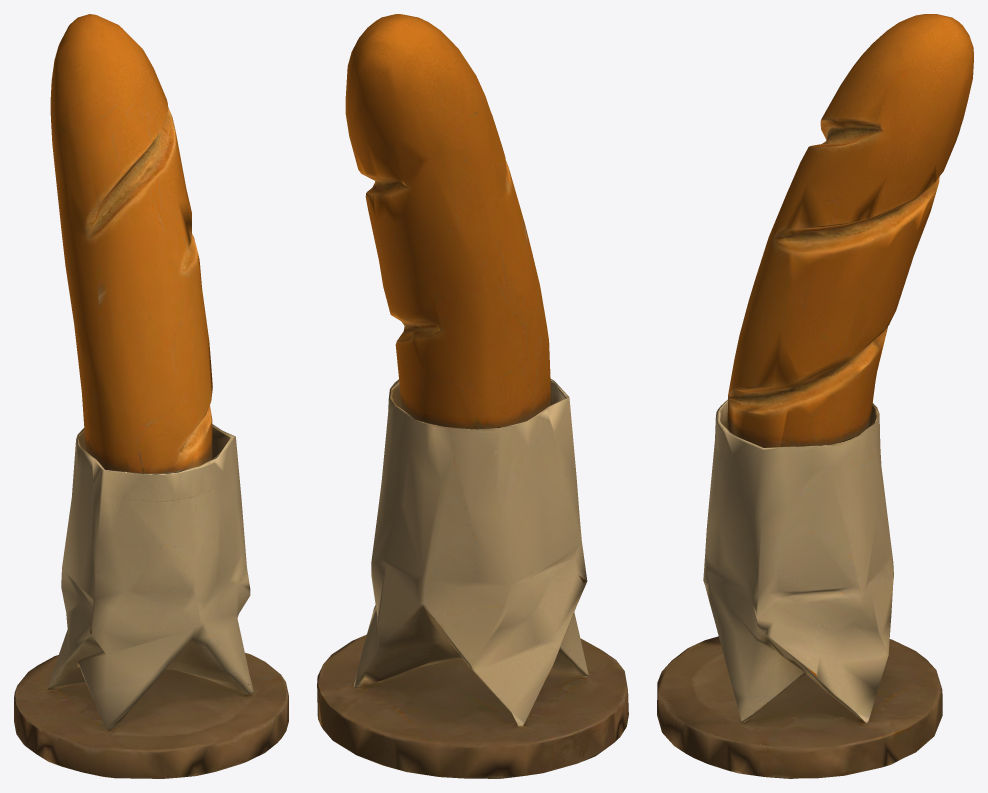
The model's file is token-baguette.glb.
3 renders of one model, left to right at view 1: azimuth 30°, elevation 25°; view 2: azimuth 150°, elevation 25°; view 3: azimuth 270°, elevation 25°, orthographic. The views are drawn at different scales.
Size of the model in its own units: 0.7242 by 1.9 by 0.7746.
Materials: 1 (1 with a texture image).
